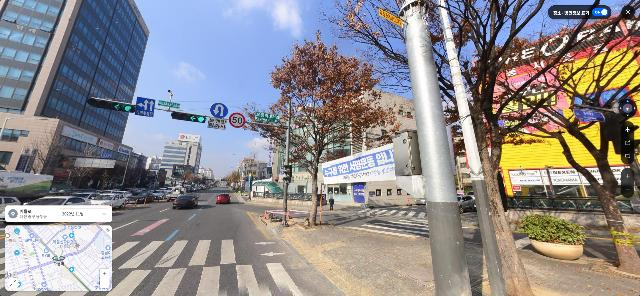other: (321, 0, 640, 296), (242, 30, 394, 226)
